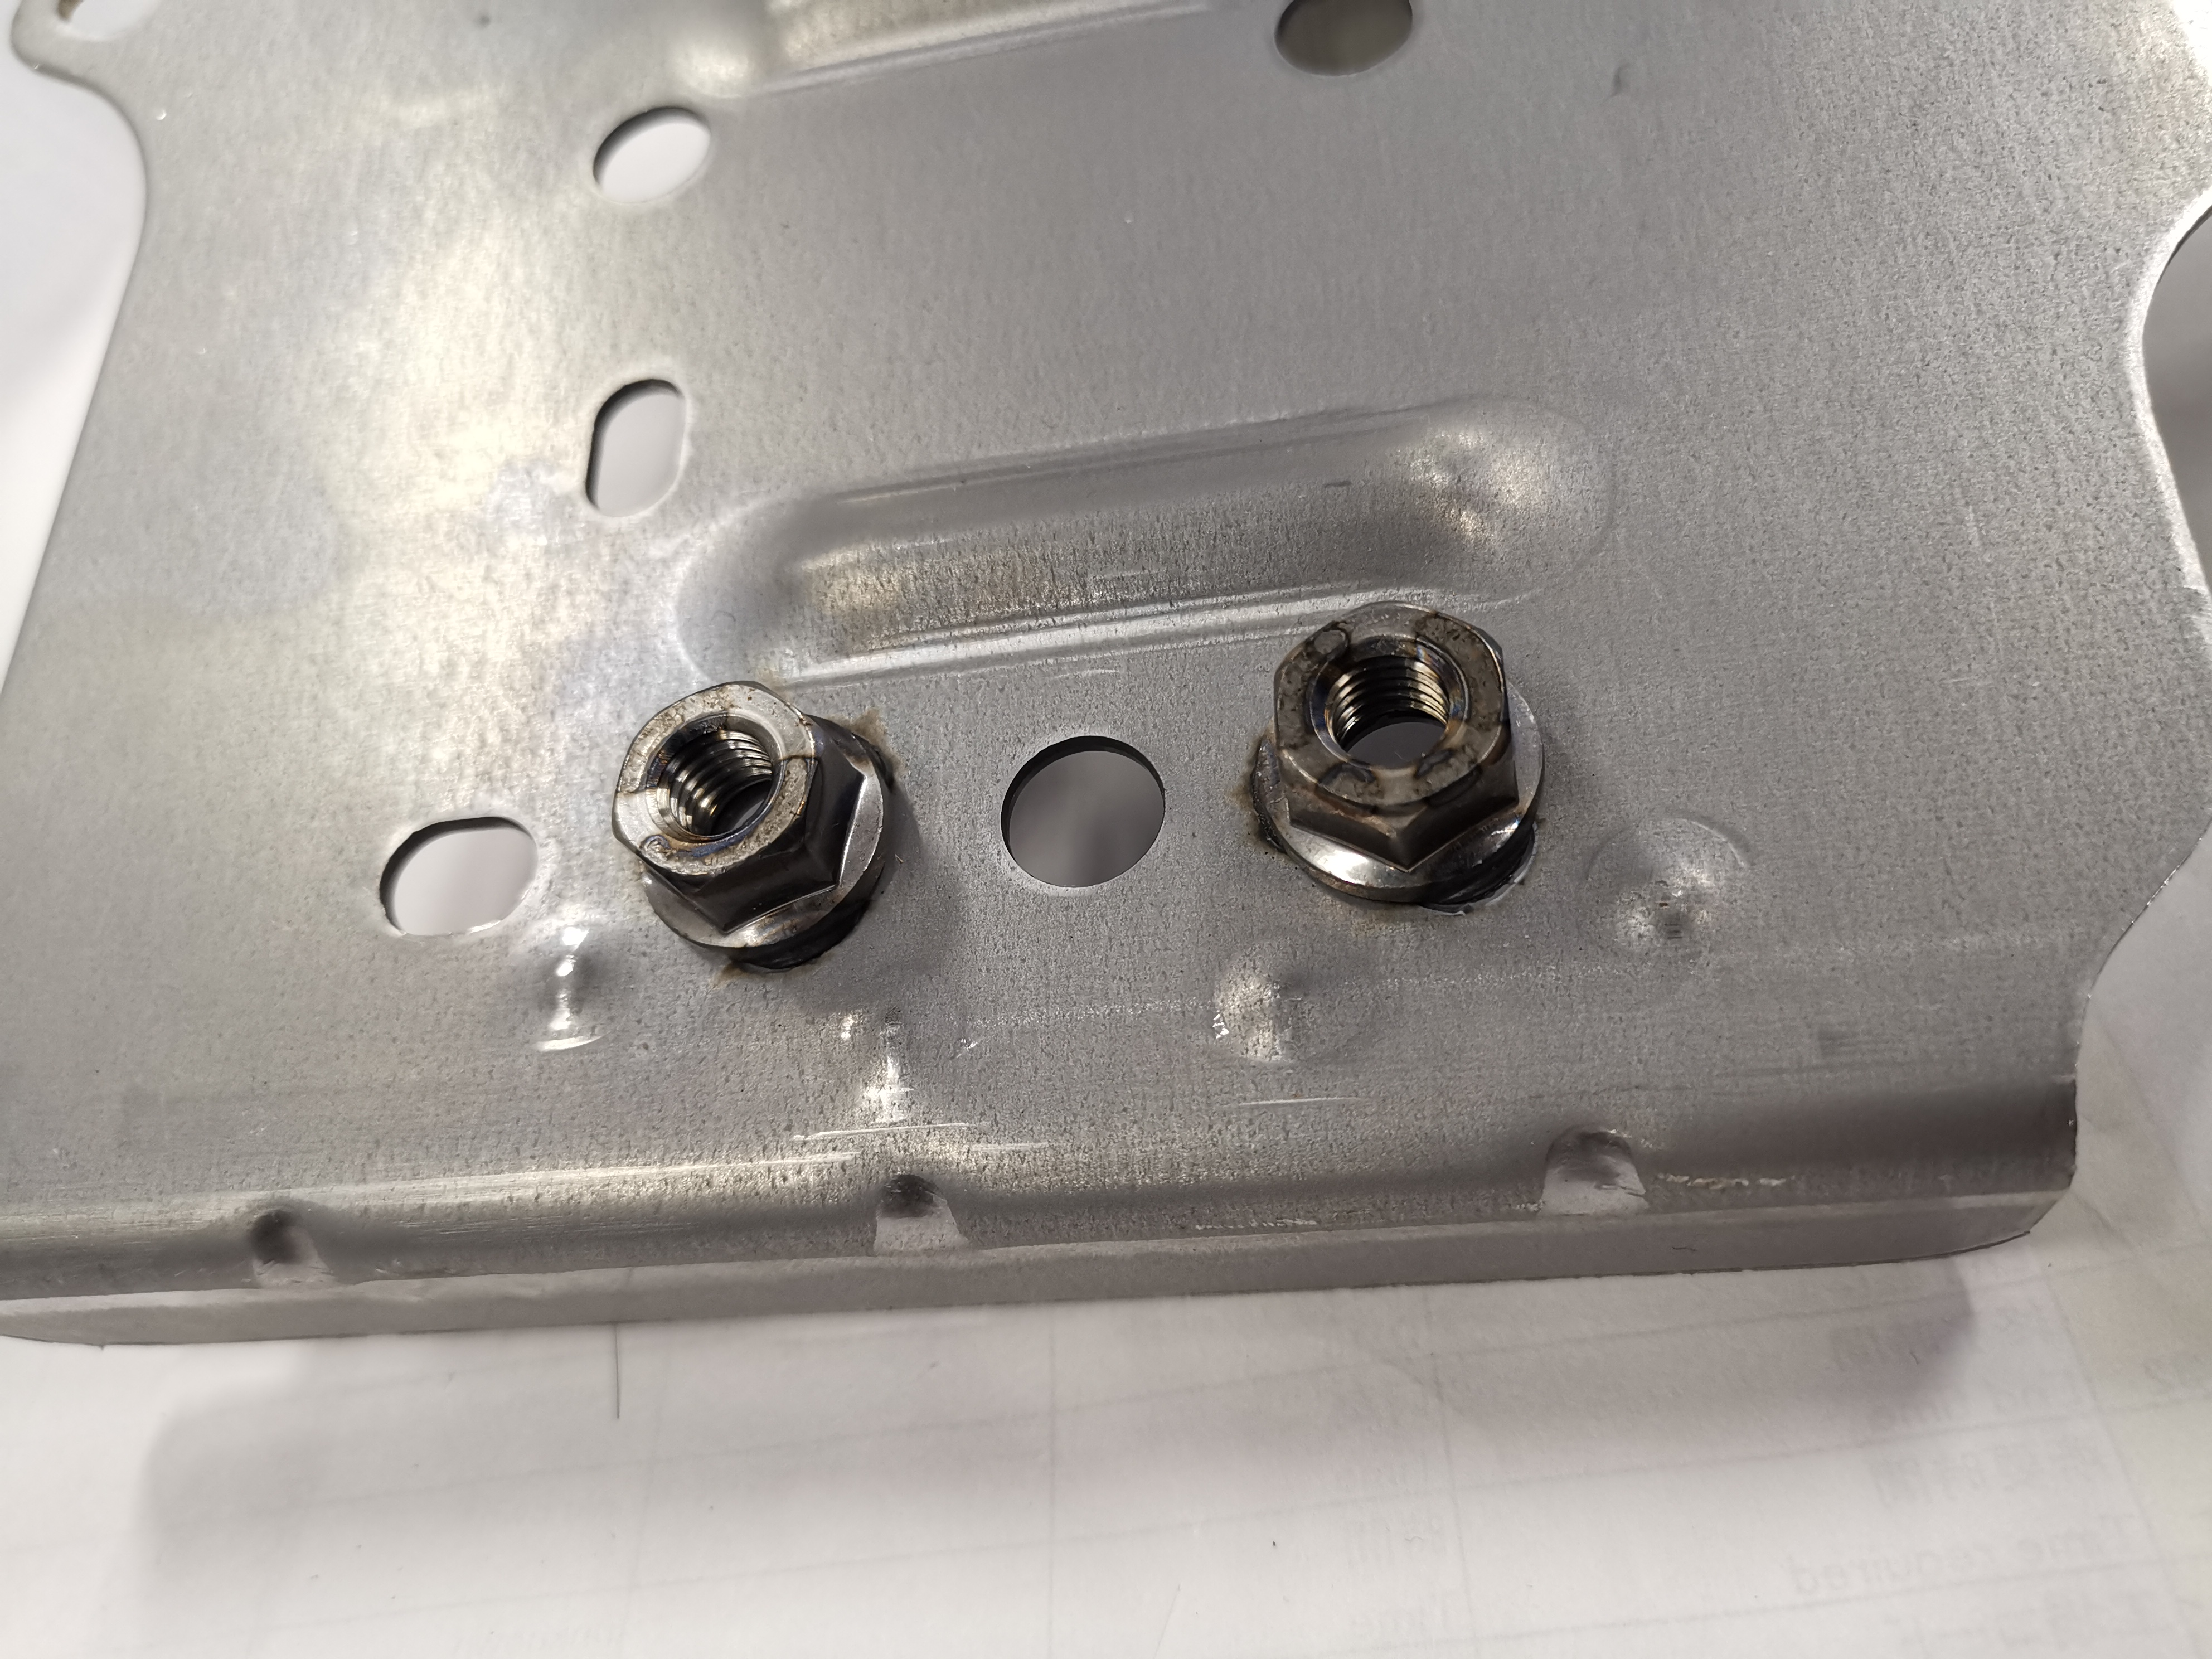dog: (1245, 592, 1561, 918), (599, 676, 907, 978)
